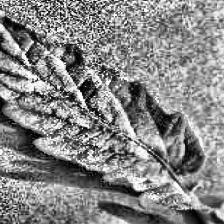Anthracnose Fruit Rot: (27, 57, 93, 98), (111, 125, 176, 154), (102, 170, 156, 192)
